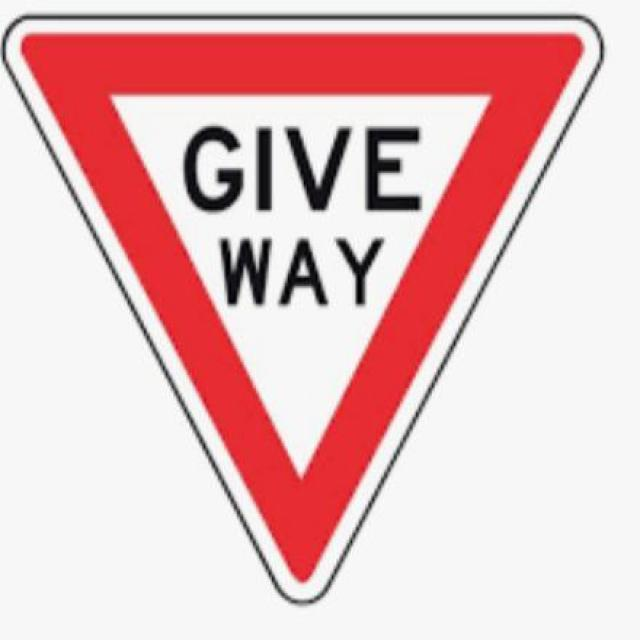give way: (21, 28, 598, 580)
